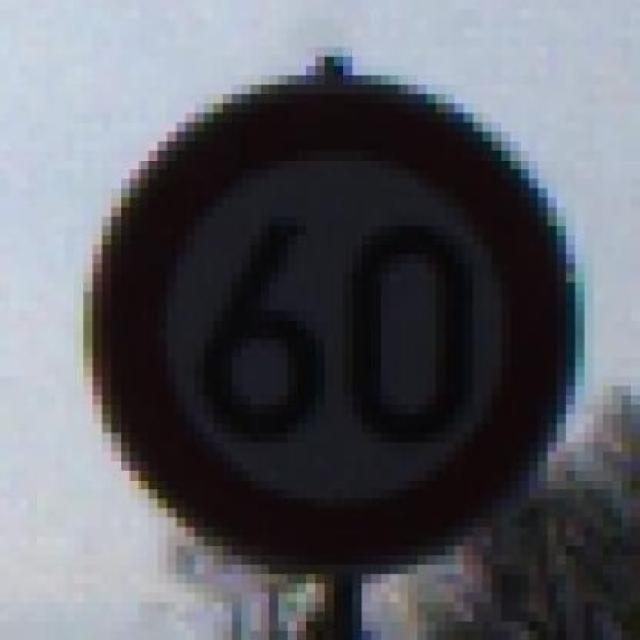forb_speed_over_60: (92, 82, 565, 564)
